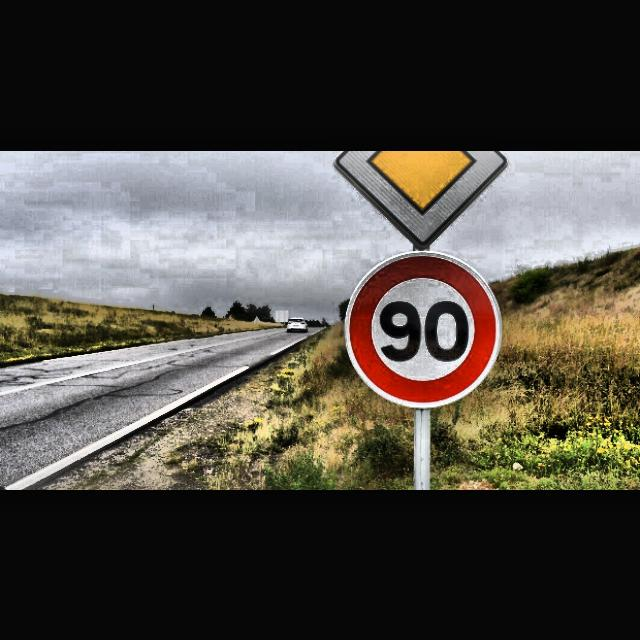speed_90: (342, 248, 503, 410)
